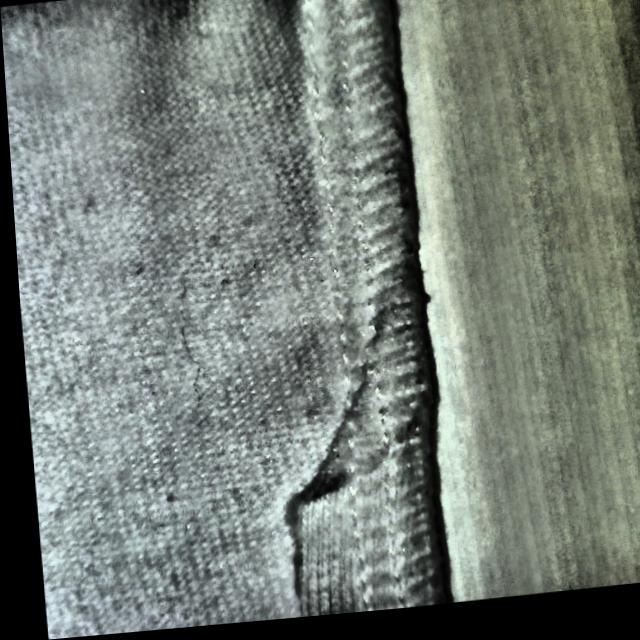seam: (229, 387, 441, 626)
